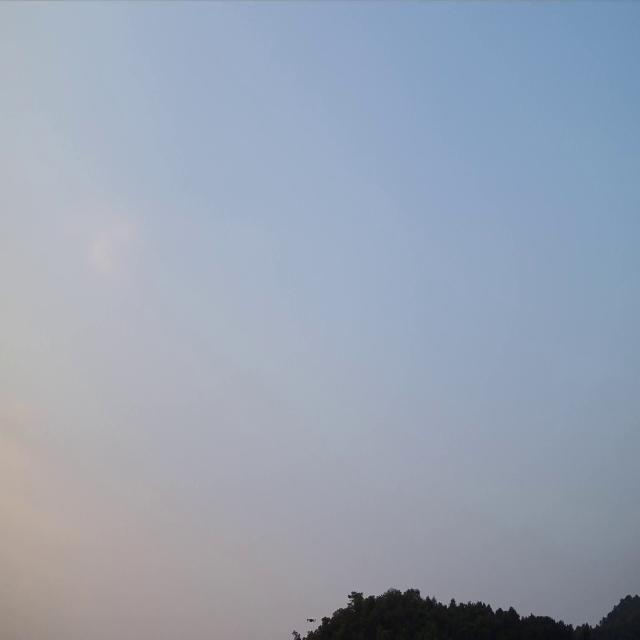UAV: (305, 618, 317, 624)
